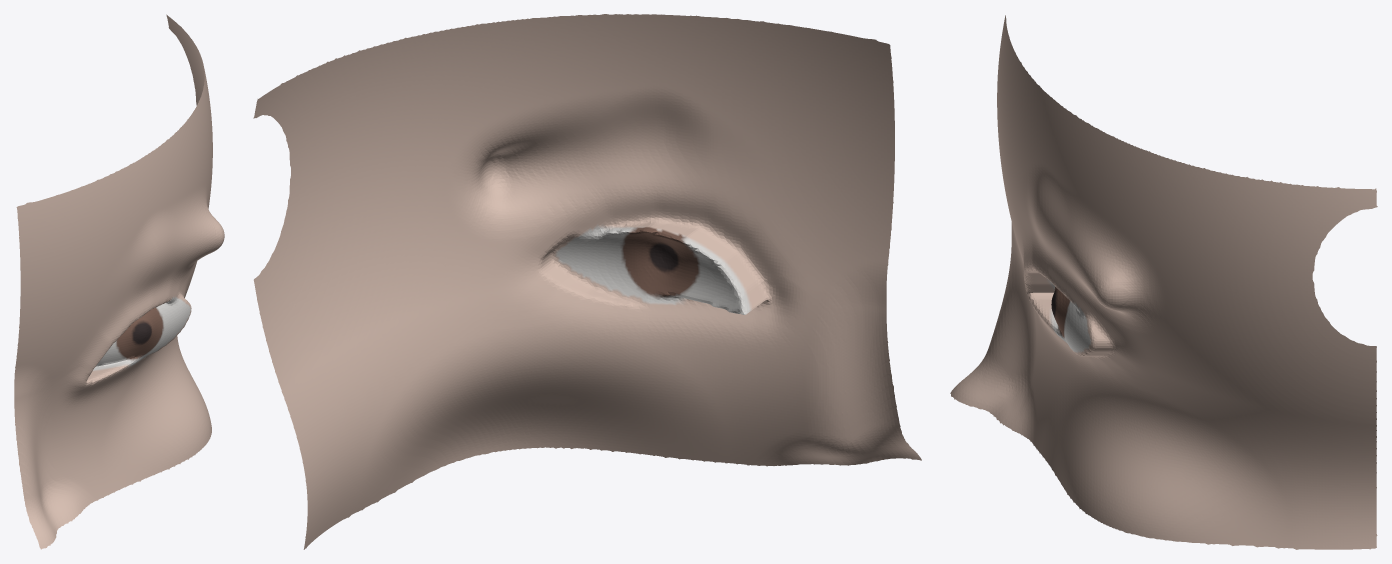
Rendered from eye_patch_v2_EXPERIMENT.glb.
The picture shows the model from 3 angles, left to right: view 1: azimuth 30°, elevation 25°; view 2: azimuth 150°, elevation 25°; view 3: azimuth 270°, elevation 25°; orthographic projection. The views are drawn at different scales.
Parts seen in each view (by area): view 1: geometry_0; view 2: geometry_0; view 3: geometry_0.
Part boxes in pixels (x1,y1,x2,y2): geometry_0: (14,14,224,549); geometry_0: (253,14,921,549); geometry_0: (950,15,1377,549).
Bounding box in the file's own units: 1.1 × 1.1 × 1.12.
